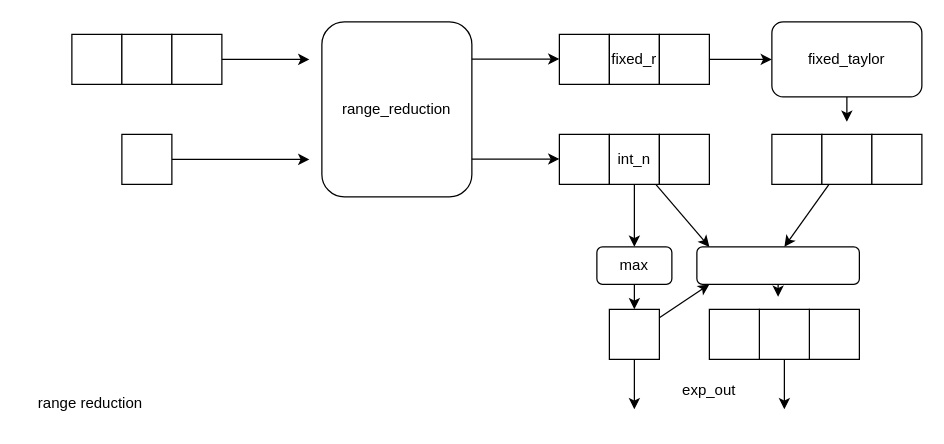
The diagram is 944 pixels wide and 444 high, and some of its shapes have lost their labels. The shapes that lost their labels are listed below. From the top down, each one's centre as x and y in pixels, then its label:
point (846, 158): fixed_er
point (777, 265): shift
